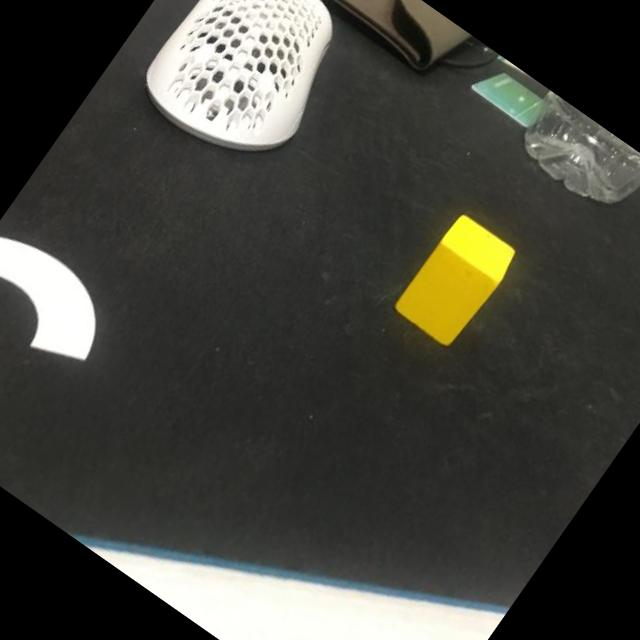yellow: (392, 212, 520, 352)
